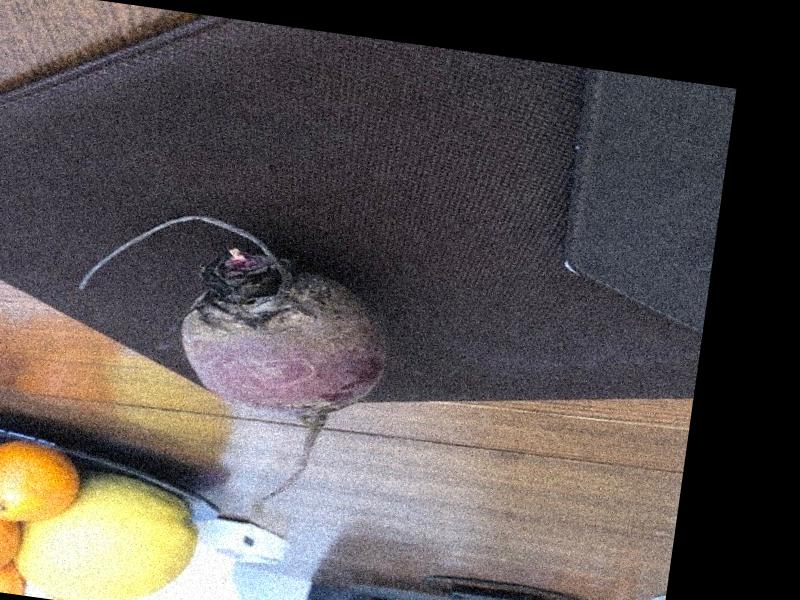Beet: (52, 200, 402, 515)
